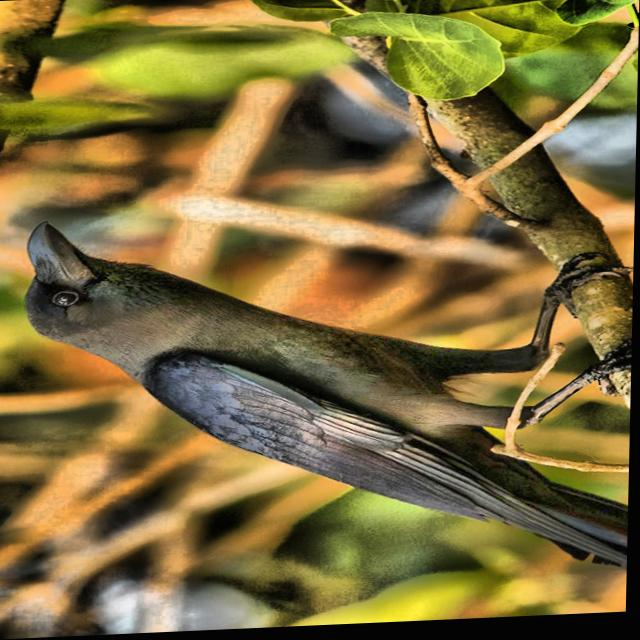crow: (15, 194, 636, 597)
